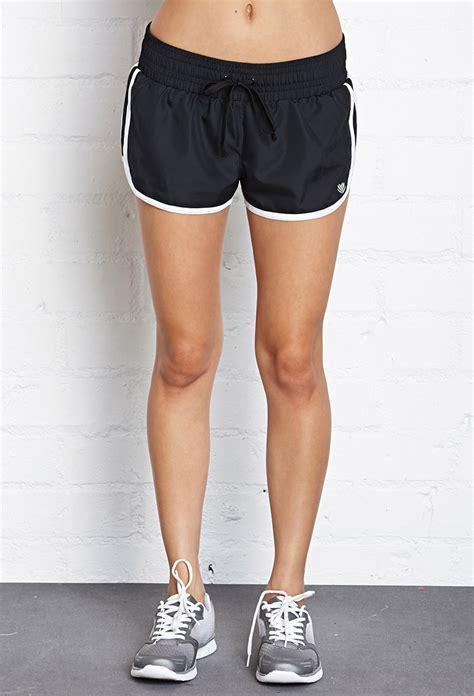short: (121, 22, 357, 221)
